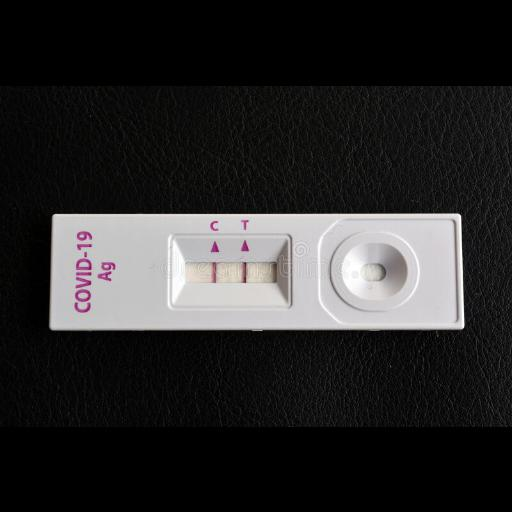Pos: (52, 212, 462, 326)
